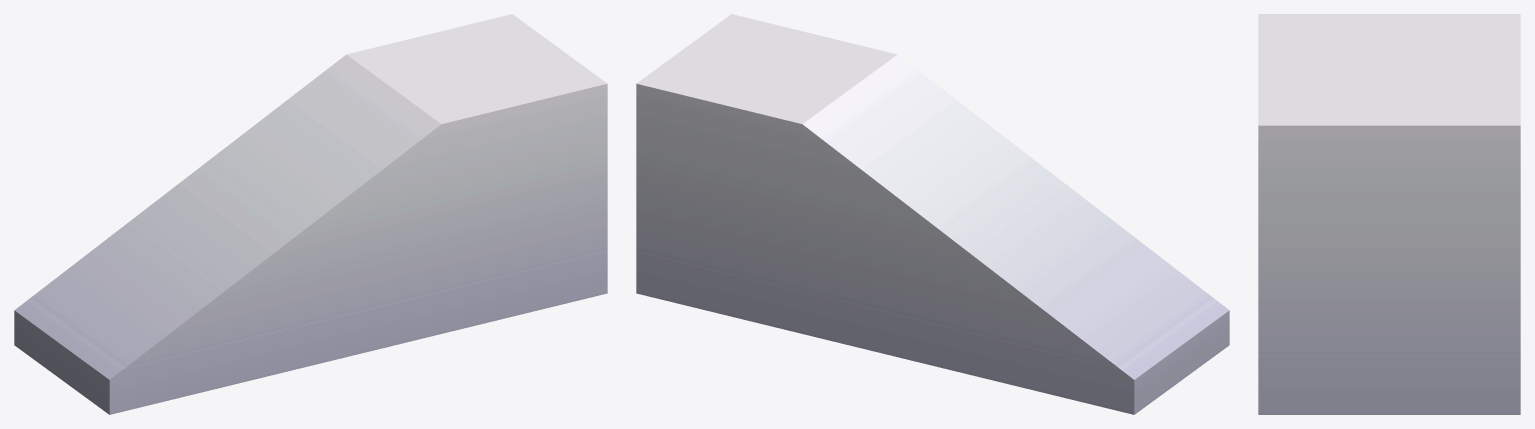
The model's file is none-lq-brick-slope-3x1.glb.
3 renders of one model, left to right at view 1: azimuth 30°, elevation 25°; view 2: azimuth 150°, elevation 25°; view 3: azimuth 270°, elevation 25°, orthographic. The views are drawn at different scales.
Visible parts, largest first — view 1: none-lq-brick-slope-3x1; view 2: none-lq-brick-slope-3x1; view 3: none-lq-brick-slope-3x1.
Part boxes in pixels (x1,y1,x2,y2): none-lq-brick-slope-3x1: [14, 14, 607, 414]; none-lq-brick-slope-3x1: [636, 14, 1229, 414]; none-lq-brick-slope-3x1: [1258, 14, 1520, 414].
Bounding box in the file's own units: 0.2385 × 0.096 × 0.079.
1 material, 1 textured.
